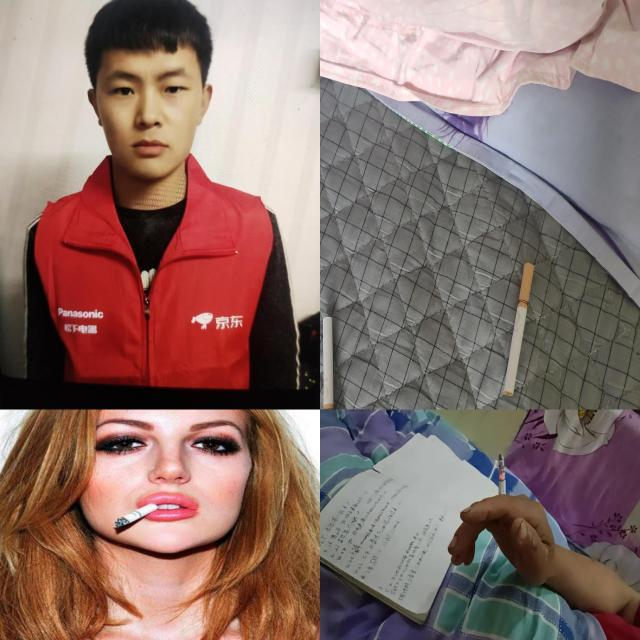smoking: (503, 263, 535, 397), (322, 316, 336, 409), (113, 502, 160, 529), (498, 454, 506, 504)
